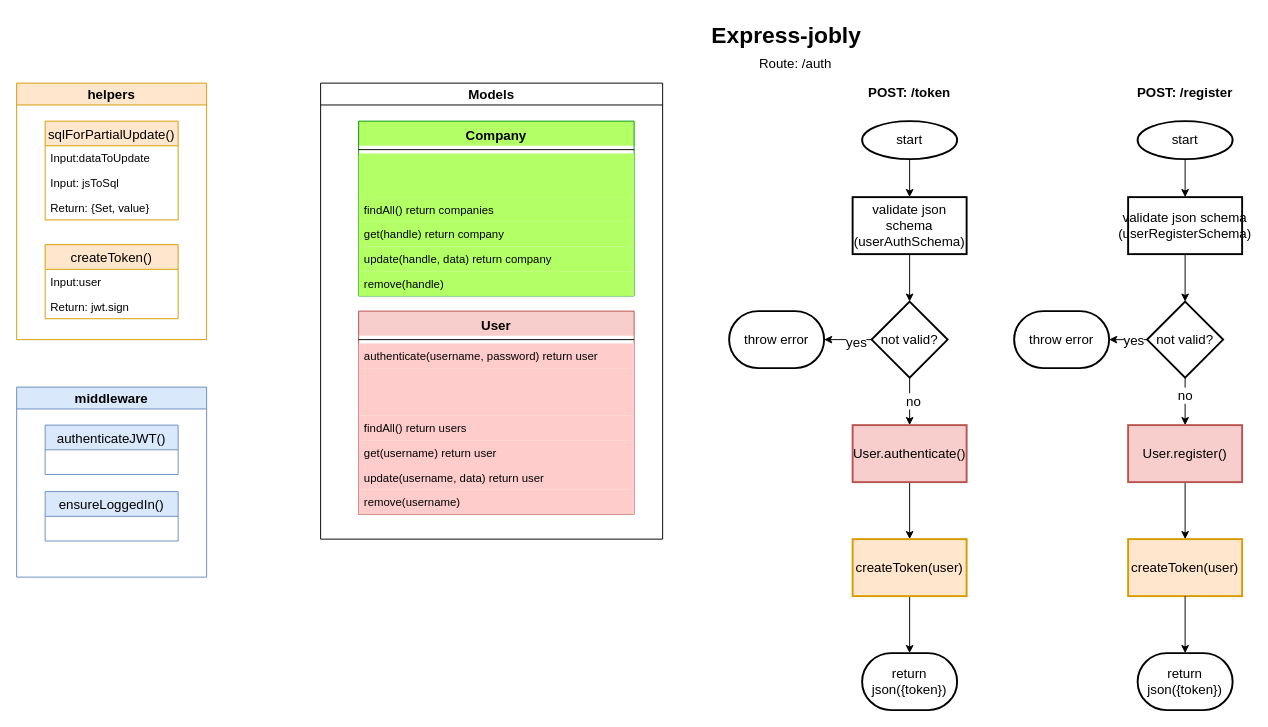
The diagram is 1268 pixels wide and 727 high, and some of its shapes have lost their labels. Each missing label, with the centre of its shape:
create({handle, name, description, numEmployees, logoUrl}) return company: point (496, 175)
register({username, password, firstName, lastName, email, isAdmin}) return user: point (496, 391)
